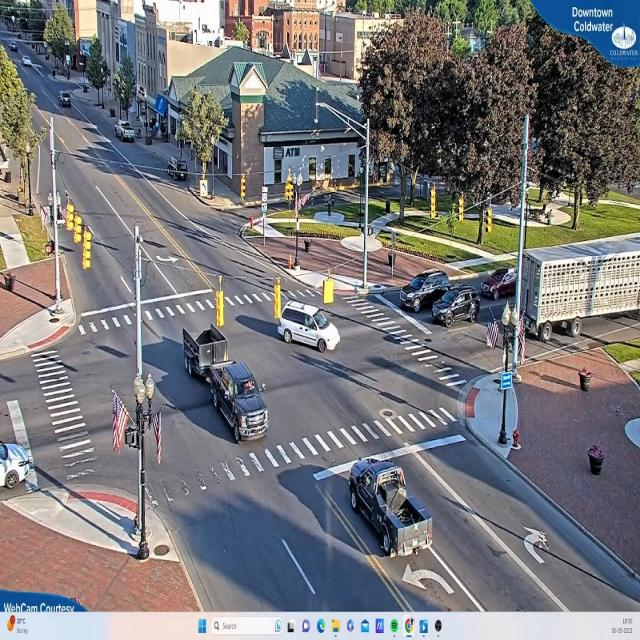car: (344, 452, 444, 558), (206, 359, 270, 443), (279, 301, 341, 353), (400, 272, 453, 314), (431, 287, 479, 327), (0, 443, 37, 491), (479, 268, 516, 301), (117, 121, 137, 145), (59, 92, 72, 106)
